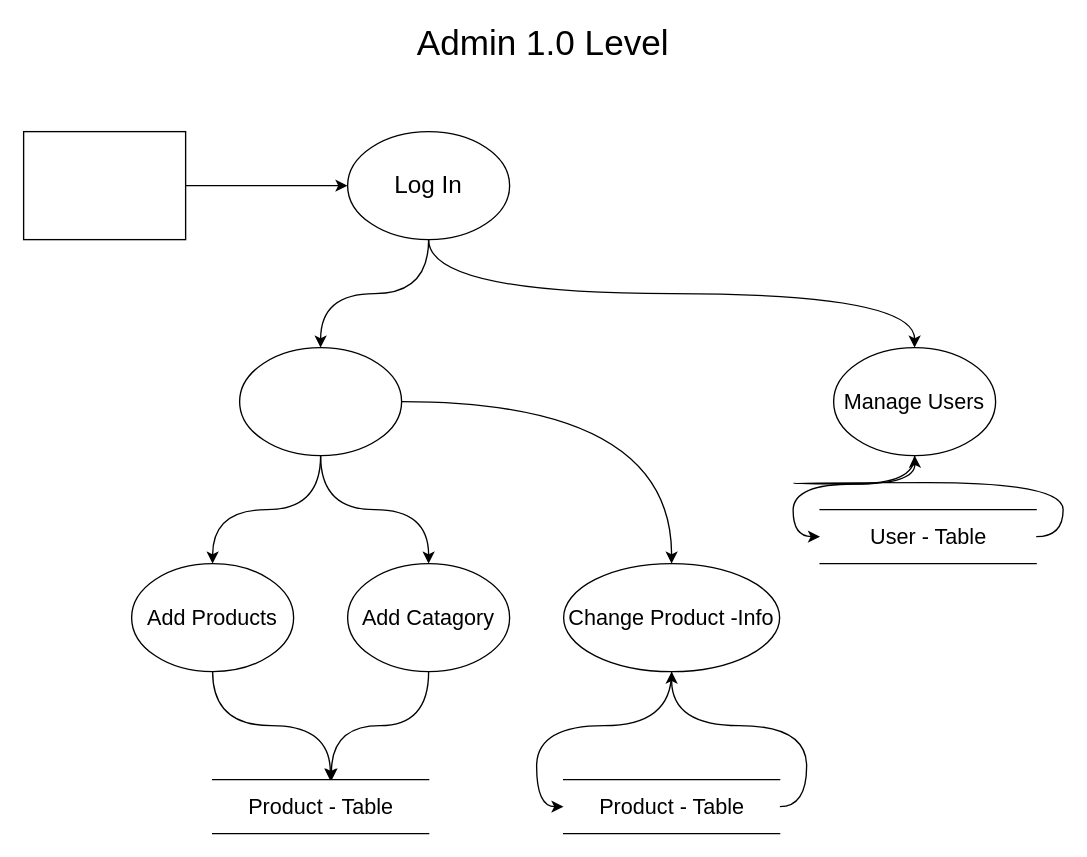
This 1087x857 diagram has some shape labels left out. Here are the shapes that lost their labels. From the top down, the box of each, then its label:
(22, 130, 186, 240): Admin
(238, 346, 402, 456): Manage Products
